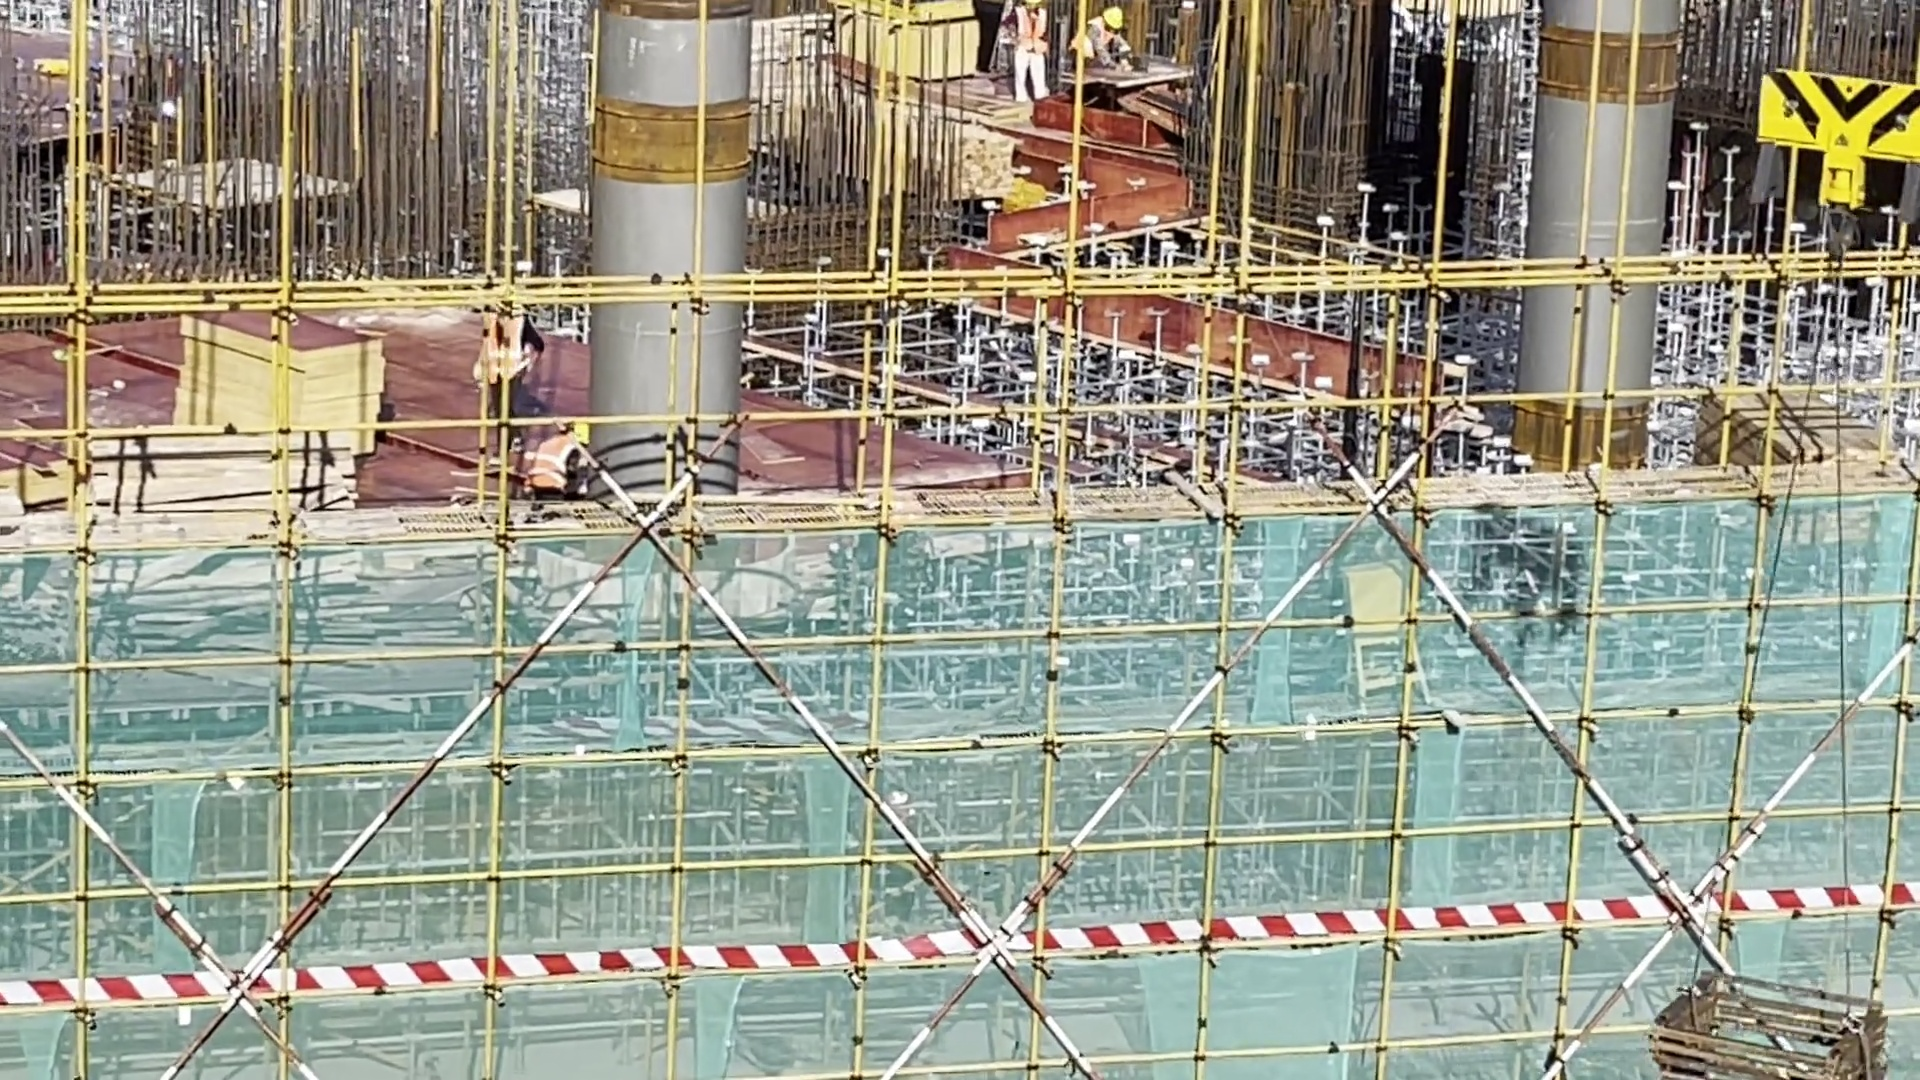board: (184, 313, 390, 470), (1700, 381, 1898, 516)
ebox: (1338, 548, 1434, 713)
helmet: (1103, 1, 1128, 37), (570, 419, 598, 449)
hook: (1744, 61, 1920, 210)
person: (513, 413, 619, 518), (480, 290, 548, 430), (1006, 1, 1061, 113), (1077, 1, 1140, 94)
vest: (461, 308, 544, 391), (529, 429, 601, 501), (1008, 5, 1052, 55)
wood: (73, 421, 350, 546)
